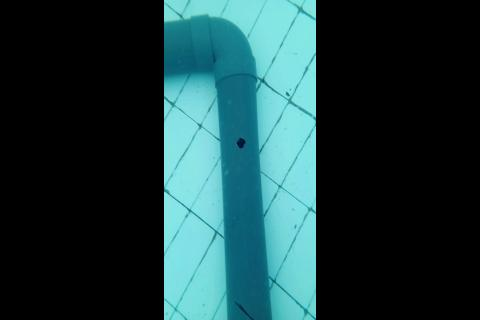kebocoran: (234, 134, 247, 151)
keretakan: (234, 301, 255, 320)
